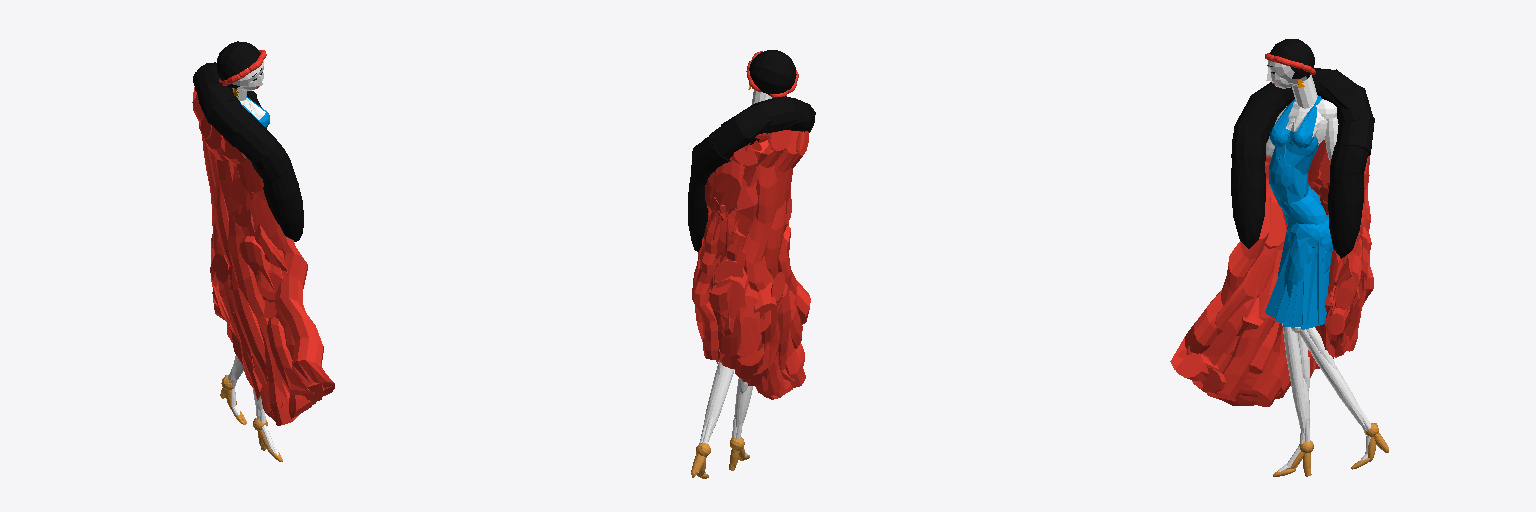
The picture shows the model from 3 angles: view 1: azimuth 30°, elevation 25°; view 2: azimuth 150°, elevation 25°; view 3: azimuth 270°, elevation 25°; orthographic projection.
Parts seen in each view (by area): view 1: group[number redacted], group[number redacted], group[number redacted], group[number redacted], group[number redacted], group[number redacted], group[number redacted], group[number redacted], group[number redacted], group[number redacted], group[number redacted], group[number redacted] (+4 smaller); view 2: group[number redacted], group[number redacted], group[number redacted], group[number redacted], group[number redacted], group[number redacted], group[number redacted], group[number redacted], group[number redacted], group[number redacted], group[number redacted], group[number redacted] (+11 smaller); view 3: group[number redacted], group[number redacted], group[number redacted], group[number redacted], group[number redacted], group[number redacted], group[number redacted], group[number redacted], group[number redacted], group[number redacted], group[number redacted], group[number redacted] (+23 smaller).
Part boxes in pixels (x1,y1,x2,y2): group[number redacted]: (203,122,299,425); group[number redacted]: (275,236,334,390); group[number redacted]: (201,115,283,411); group[number redacted]: (235,202,315,404); group[number redacted]: (263,164,303,241); group[number redacted]: (217,41,263,88); group[number redacted]: (228,113,276,163); group[number redacted]: (207,99,251,146); group[number redacted]: (245,190,286,249); group[number redacted]: (252,137,292,180); group[number redacted]: (196,95,270,413); group[number redacted]: (198,76,240,122); group[number redacted]: (742,130,791,399); group[number redacted]: (765,131,804,380); group[number redacted]: (726,132,782,396); group[number redacted]: (692,197,727,359); group[number redacted]: (749,50,796,94); group[number redacted]: (716,268,748,356); group[number redacted]: (778,131,808,387); group[number redacted]: (688,177,708,251); group[number redacted]: (731,284,761,355); group[number redacted]: (709,118,758,158); group[number redacted]: (710,157,744,213); group[number redacted]: (753,96,796,133); group[number redacted]: (1170,162,1270,372); group[number redacted]: (1207,210,1286,400); group[number redacted]: (1231,160,1265,248); group[number redacted]: (1328,174,1363,258); group[number redacted]: (1186,246,1277,354); group[number redacted]: (1269,144,1312,203); group[number redacted]: (1250,323,1287,406); group[number redacted]: (1192,156,1286,388); group[number redacted]: (1268,39,1314,85); group[number redacted]: (1282,323,1305,434); group[number redacted]: (1234,95,1277,142); group[number redacted]: (1330,126,1367,183).
Size of the model in its own units: 0.6944 by 3.07 by 1.45.